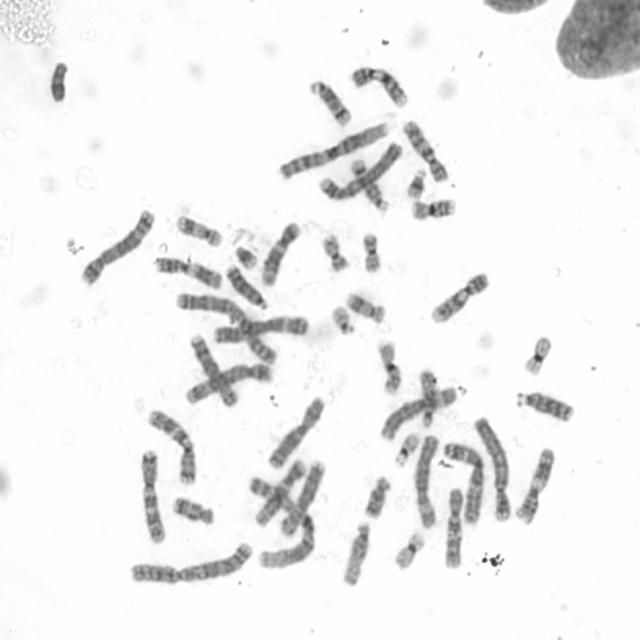A1: (246, 476, 319, 572), (277, 120, 389, 182)
A2: (174, 292, 278, 366), (126, 540, 252, 587)
A3: (443, 441, 487, 528), (212, 314, 310, 346)
B4: (318, 138, 404, 202), (473, 414, 512, 522)
B5: (79, 206, 154, 288), (186, 361, 276, 407)
C10: (402, 118, 451, 184), (442, 486, 465, 570)
C11: (512, 446, 556, 527), (152, 256, 222, 290)
C12: (253, 456, 308, 529), (259, 220, 303, 288)
C6: (379, 384, 459, 442), (413, 432, 440, 530)
C7: (147, 407, 200, 486), (138, 446, 168, 546)
C8: (278, 459, 327, 540), (190, 333, 240, 410)
C9: (429, 270, 490, 326), (349, 64, 410, 108)
D13: (223, 261, 269, 311), (515, 389, 577, 424)
D14: (308, 77, 353, 129), (350, 158, 390, 212)
D15: (340, 520, 372, 588), (416, 367, 441, 429)
E16: (375, 338, 404, 399), (410, 196, 457, 221)
E17: (175, 212, 224, 250), (344, 292, 386, 326)
E18: (171, 495, 217, 526), (363, 472, 391, 520)
F19: (520, 333, 554, 378), (393, 532, 427, 570)
F20: (318, 231, 351, 273), (359, 231, 385, 277)
G21: (405, 167, 427, 200), (234, 242, 258, 271)
G22: (394, 431, 420, 468), (329, 304, 356, 335)
X: (266, 395, 326, 470)
Y: (47, 59, 70, 104)
